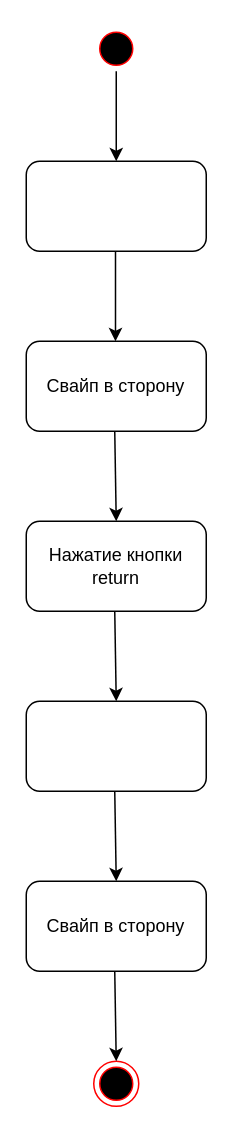
This 233x1133 diagram has some shape labels left out. The centre of each missing label's shape, as x and y in pixels:
Нажатие кнопки Continue: (x=115, y=745)
Нажатие кнопки New Game: (x=115, y=205)
